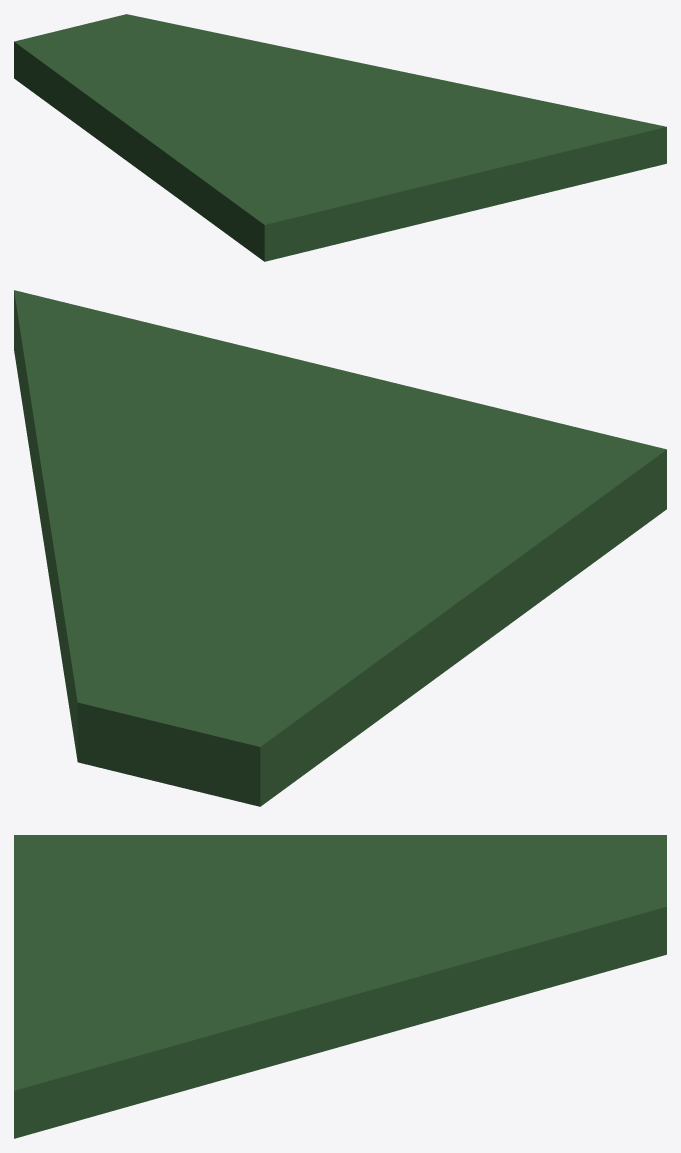
Rendered from x_proval_00_45_1_rmstrd.fbx.
3 renders of one model, top to bottom at view 1: azimuth 30°, elevation 25°; view 2: azimuth 150°, elevation 25°; view 3: azimuth 270°, elevation 25°, orthographic. The views are drawn at different scales.
Visible parts, largest first — view 1: x_proval_00_45_1_rmstrd1; view 2: x_proval_00_45_1_rmstrd1; view 3: x_proval_00_45_1_rmstrd1.
Part boxes in pixels (x1,y1,x2,y2): x_proval_00_45_1_rmstrd1: (14,14,666,261); x_proval_00_45_1_rmstrd1: (14,290,666,806); x_proval_00_45_1_rmstrd1: (14,835,666,1138).
Size of the model in its own units: 2.28 by 0.2 by 2.46.
